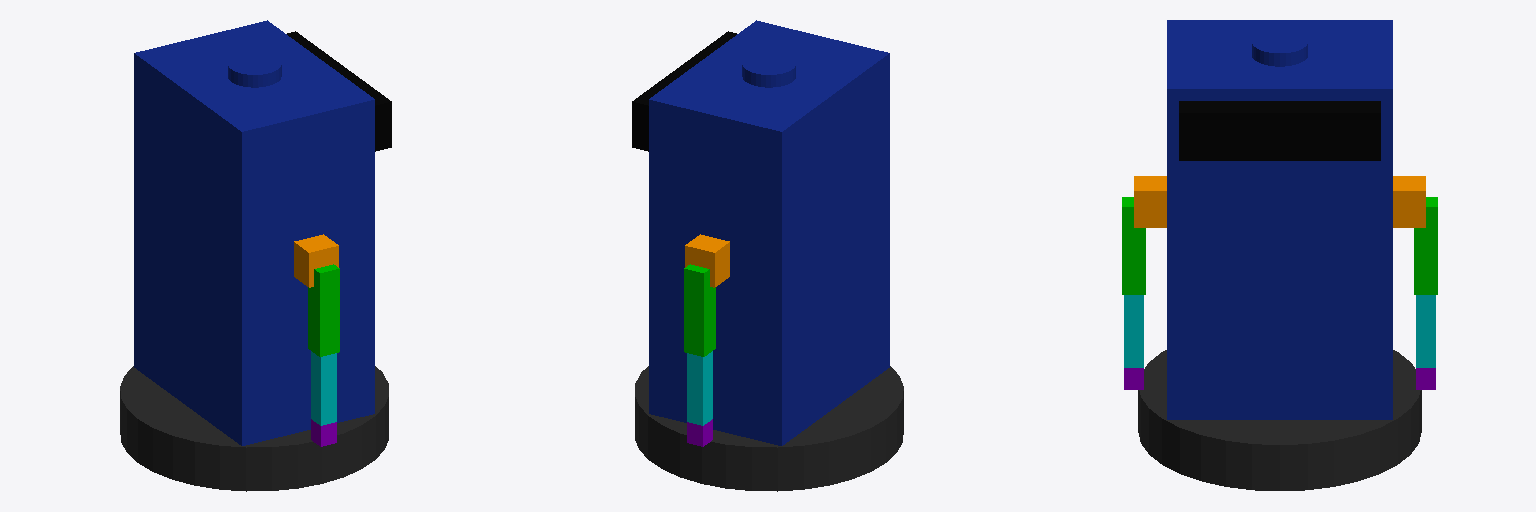
URDF robot description (underbot):
<?xml version="1.0"?>
<robot name="underbot">
  <material name="dark_grey"><color rgba="0.2 0.2 0.2 1.0"/></material>
  <material name="blue"><color rgba="0.1 0.2 0.6 1.0"/></material>
  <material name="black"><color rgba="0.05 0.05 0.05 1.0"/></material>
  <material name="orange"><color rgba="1.0 0.6 0.0 1.0"/></material>
  <material name="green"><color rgba="0.0 0.8 0.0 1.0"/></material>
  <material name="cyan"><color rgba="0.0 0.8 0.8 1.0"/></material>
  <material name="purple"><color rgba="0.6 0.0 0.8 1.0"/></material>

  <link name="base_footprint"/>
  <joint name="base_footprint_joint" type="fixed">
    <parent link="base_footprint"/>
    <child link="base_link"/>
    <origin xyz="0 0 0.0325" rpy="0 0 0"/>
  </joint>

  <!-- BASE -->
  <link name="base_link">
    <visual>
      <origin xyz="0 0 0.0315" rpy="0 0 0"/>
      <geometry><cylinder radius="0.175" length="0.063"/></geometry>
      <material name="dark_grey"/>
    </visual>
  </link>

  <!-- BODY COLUMN -->
  <link name="body_column">
    <visual>
      <origin xyz="0 0 0.225" rpy="0 0 0"/>
      <geometry><box size="0.20 0.28 0.45"/></geometry>
      <material name="blue"/>
    </visual>
  </link>
  <joint name="body_column_joint" type="fixed">
    <parent link="base_link"/>
    <child link="body_column"/>
    <origin xyz="0 0 0.063" rpy="0 0 0"/>
  </joint>

  <!-- KINECT -->
  <link name="kinect_v2">
    <visual>
      <origin xyz="0 0 0" rpy="0 0 0"/>
      <geometry><box size="0.067 0.249 0.066"/></geometry>
      <material name="black"/>
    </visual>
  </link>
  <joint name="kinect_joint" type="fixed">
    <parent link="body_column"/>
    <child link="kinect_v2"/>
    <origin xyz="0.10 0 0.40" rpy="0 0 0"/>
  </joint>

  <!-- LIDAR -->
  <link name="lidar_mount">
    <visual>
      <origin xyz="0 0 0.009" rpy="0 0 0"/>
      <geometry><cylinder radius="0.035" length="0.018"/></geometry>
      <material name="blue"/>
    </visual>
  </link>
  <joint name="lidar_joint" type="fixed">
    <parent link="body_column"/>
    <child link="lidar_mount"/>
    <origin xyz="0 0 0.45" rpy="0 0 0"/>
  </joint>

  <!-- LEFT ARM -->
  <link name="l_arm_base">
    <visual>
      <origin xyz="0 0.02 0" rpy="0 0 0"/>
      <geometry><box size="0.045 0.04 0.05"/></geometry>
      <material name="orange"/>
    </visual>
  </link>
  <joint name="l_arm_mount_joint" type="fixed">
    <parent link="body_column"/>
    <child link="l_arm_base"/>
    <origin xyz="0 0.14 0.25" rpy="0 0 0"/>
  </joint>

  <link name="l_upper_arm">
    <visual>
      <origin xyz="0 0 -0.06" rpy="0 0 0"/>
      <geometry><box size="0.03 0.03 0.12"/></geometry>
      <material name="green"/>
    </visual>
  </link>
  <joint name="l_shoulder_joint" type="revolute">
    <parent link="l_arm_base"/>
    <child link="l_upper_arm"/>
    <origin xyz="0 0.04 0" rpy="0 0 0"/>
    <axis xyz="0 1 0"/>
    <limit lower="-1.87" upper="1.87" effort="8.0" velocity="3.14"/>
  </joint>

  <link name="l_forearm">
    <visual>
      <origin xyz="0 0 -0.05" rpy="0 0 0"/>
      <geometry><box size="0.025 0.025 0.10"/></geometry>
      <material name="cyan"/>
    </visual>
  </link>
  <joint name="l_elbow_joint" type="revolute">
    <parent link="l_upper_arm"/>
    <child link="l_forearm"/>
    <origin xyz="0 0 -0.12" rpy="0 0 0"/>
    <axis xyz="0 1 0"/>
    <limit lower="-2.11" upper="1.61" effort="6.0" velocity="3.14"/>
  </joint>

  <link name="l_wrist">
    <visual>
      <origin xyz="0 0 -0.015" rpy="0 0 0"/>
      <geometry><box size="0.025 0.025 0.03"/></geometry>
      <material name="purple"/>
    </visual>
  </link>
  <joint name="l_wrist_fixed_joint" type="fixed">
    <parent link="l_forearm"/>
    <child link="l_wrist"/>
    <origin xyz="0 0 -0.10" rpy="0 0 0"/>
  </joint>

  <!-- RIGHT ARM -->
  <link name="r_arm_base">
    <visual>
      <origin xyz="0 -0.02 0" rpy="0 0 0"/>
      <geometry><box size="0.045 0.04 0.05"/></geometry>
      <material name="orange"/>
    </visual>
  </link>
  <joint name="r_arm_mount_joint" type="fixed">
    <parent link="body_column"/>
    <child link="r_arm_base"/>
    <origin xyz="0 -0.14 0.25" rpy="0 0 0"/>
  </joint>

  <link name="r_upper_arm">
    <visual>
      <origin xyz="0 0 -0.06" rpy="0 0 0"/>
      <geometry><box size="0.03 0.03 0.12"/></geometry>
      <material name="green"/>
    </visual>
  </link>
  <joint name="r_shoulder_joint" type="revolute">
    <parent link="r_arm_base"/>
    <child link="r_upper_arm"/>
    <origin xyz="0 -0.04 0" rpy="0 0 0"/>
    <axis xyz="0 1 0"/>
    <limit lower="-1.87" upper="1.87" effort="8.0" velocity="3.14"/>
  </joint>

  <link name="r_forearm">
    <visual>
      <origin xyz="0 0 -0.05" rpy="0 0 0"/>
      <geometry><box size="0.025 0.025 0.10"/></geometry>
      <material name="cyan"/>
    </visual>
  </link>
  <joint name="r_elbow_joint" type="revolute">
    <parent link="r_upper_arm"/>
    <child link="r_forearm"/>
    <origin xyz="0 0 -0.12" rpy="0 0 0"/>
    <axis xyz="0 1 0"/>
    <limit lower="-2.11" upper="1.61" effort="6.0" velocity="3.14"/>
  </joint>

  <link name="r_wrist">
    <visual>
      <origin xyz="0 0 -0.015" rpy="0 0 0"/>
      <geometry><box size="0.025 0.025 0.03"/></geometry>
      <material name="purple"/>
    </visual>
  </link>
  <joint name="r_wrist_fixed_joint" type="fixed">
    <parent link="r_forearm"/>
    <child link="r_wrist"/>
    <origin xyz="0 0 -0.10" rpy="0 0 0"/>
  </joint>

</robot>

--- Facts derived from the render (not from the file) ---
The picture shows the robot from 3 angles, left to right: view 1: azimuth 30°, elevation 25°; view 2: azimuth 150°, elevation 25°; view 3: azimuth 270°, elevation 25°; orthographic projection.
Model underbot with 13 links and 12 joints (4 revolute, 8 fixed), rooted at base_footprint, posed all joints at 0.
Visible links, largest first — view 1: body_column, base_link, r_upper_arm, r_forearm, kinect_v2, lidar_mount, r_arm_base, r_wrist; view 2: body_column, base_link, l_upper_arm, l_forearm, kinect_v2, lidar_mount, l_arm_base, l_wrist; view 3: body_column, base_link, kinect_v2, l_upper_arm, r_upper_arm, lidar_mount, l_arm_base, r_arm_base, l_forearm, r_forearm.
Link boxes in pixels (bbox=[...]): body_column: bbox=[134, 20, 374, 445]; base_link: bbox=[120, 366, 388, 491]; r_upper_arm: bbox=[308, 264, 339, 356]; r_forearm: bbox=[311, 351, 336, 425]; kinect_v2: bbox=[287, 31, 391, 151]; lidar_mount: bbox=[228, 52, 281, 87]; r_arm_base: bbox=[294, 234, 338, 287]; r_wrist: bbox=[311, 419, 336, 446]; body_column: bbox=[649, 20, 889, 445]; base_link: bbox=[635, 366, 903, 491]; l_upper_arm: bbox=[684, 264, 715, 356]; l_forearm: bbox=[687, 351, 712, 425]; kinect_v2: bbox=[632, 31, 736, 151]; lidar_mount: bbox=[742, 52, 795, 87]; l_arm_base: bbox=[685, 234, 729, 287]; l_wrist: bbox=[687, 419, 712, 446]; body_column: bbox=[1167, 20, 1392, 419]; base_link: bbox=[1138, 350, 1421, 490]; kinect_v2: bbox=[1179, 101, 1380, 160]; l_upper_arm: bbox=[1414, 197, 1437, 294]; r_upper_arm: bbox=[1122, 197, 1145, 294]; lidar_mount: bbox=[1252, 30, 1307, 66]; l_arm_base: bbox=[1393, 176, 1425, 227]; r_arm_base: bbox=[1134, 176, 1166, 227]; l_forearm: bbox=[1416, 295, 1435, 367]; r_forearm: bbox=[1124, 295, 1143, 367].
Size in the robot's own frame: 0.35 by 0.39 by 0.531 metres.
Geometry: primitives only (box / cylinder / sphere), no mesh files.
